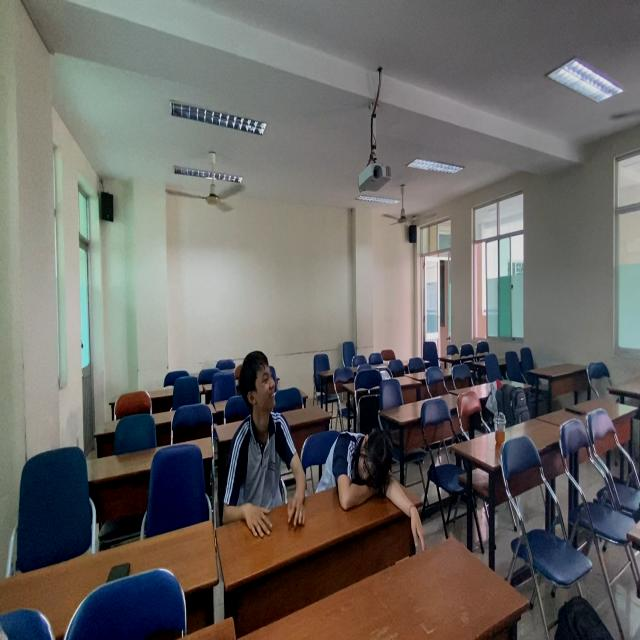sleep: (319, 422, 410, 537)
